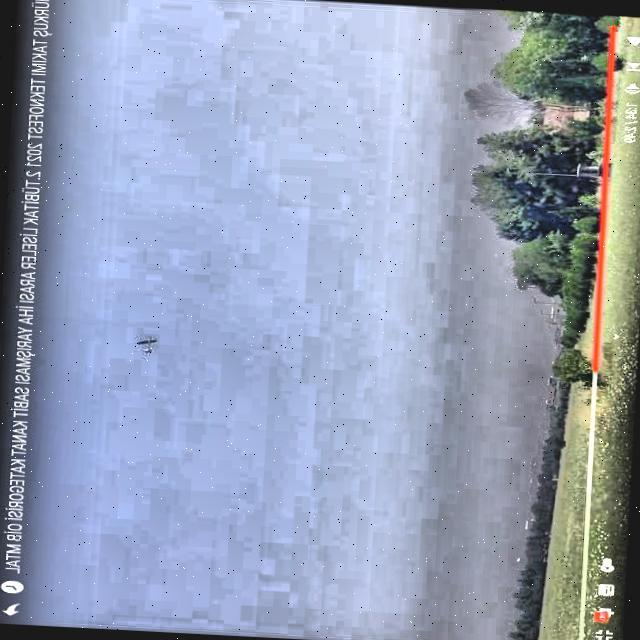iha: (128, 329, 168, 362)
